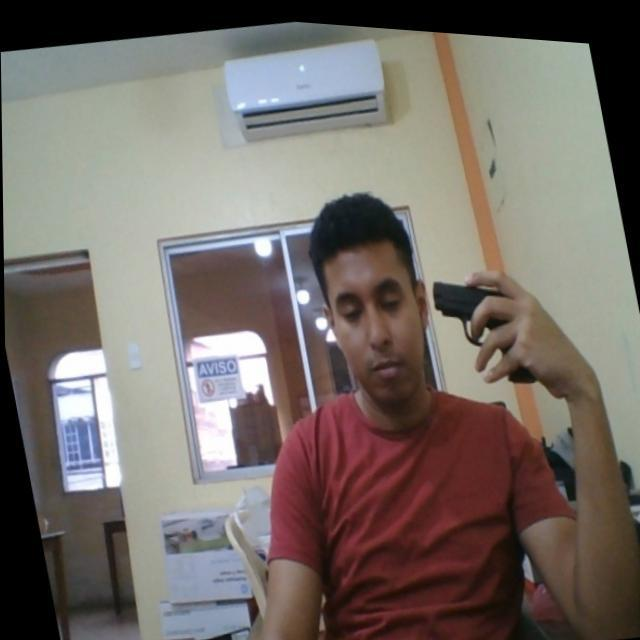weapon: (427, 256, 538, 391)
